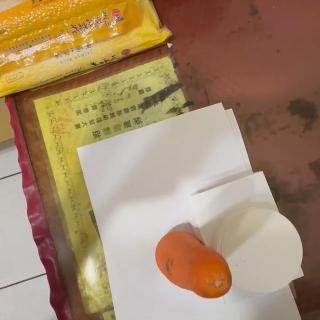carrot: (155, 230, 233, 300)
